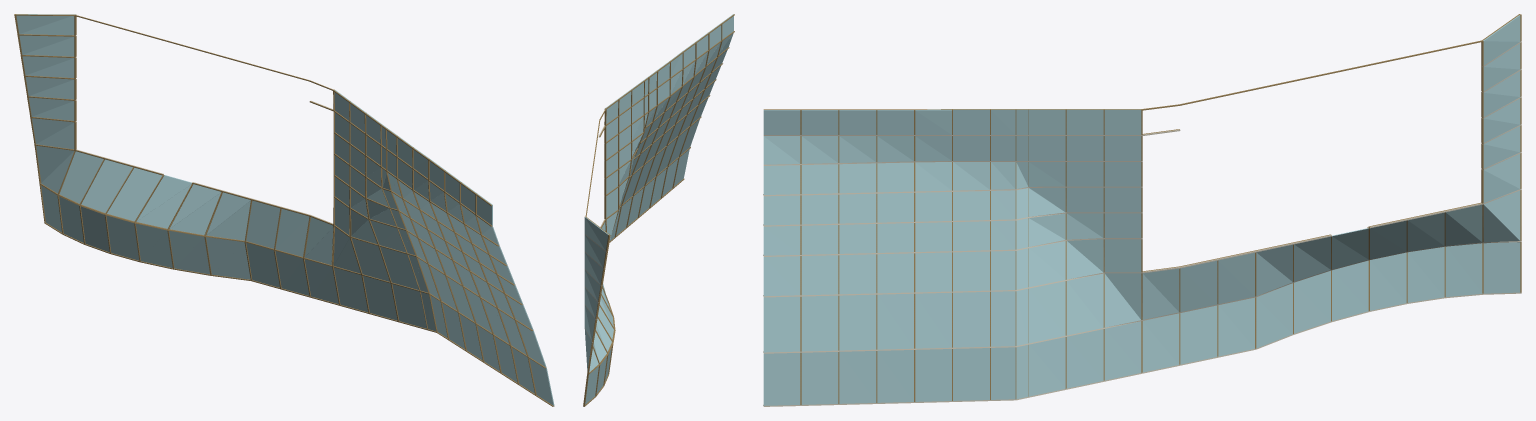
Rendered from G7_Completion_Body_1_00.glb.
The picture shows the model from 3 angles, left to right: view 1: azimuth 30°, elevation 25°; view 2: azimuth 150°, elevation 25°; view 3: azimuth 270°, elevation 25°; orthographic projection. The views are drawn at different scales.
Parts seen in each view (by area): view 1: Body_1_00_G7C3_glass_solid_skin, Body_1_00_G7C3_metal_solid_frame; view 2: Body_1_00_G7C3_glass_solid_skin, Body_1_00_G7C3_metal_solid_frame, Body_1_00_G7C3_metal_solid_skin, Body_1_00_G7C3_shell_solid_skin; view 3: Body_1_00_G7C3_glass_solid_skin, Body_1_00_G7C3_metal_solid_skin, Body_1_00_G7C3_shell_solid_skin, Body_1_00_G7C3_metal_solid_frame.
Part boxes in pixels (x1,y1,x2,y2): Body_1_00_G7C3_glass_solid_skin: [16, 14, 554, 405]; Body_1_00_G7C3_metal_solid_frame: [14, 14, 553, 406]; Body_1_00_G7C3_glass_solid_skin: [584, 14, 733, 404]; Body_1_00_G7C3_metal_solid_frame: [583, 14, 734, 406]; Body_1_00_G7C3_metal_solid_skin: [583, 32, 708, 405]; Body_1_00_G7C3_shell_solid_skin: [583, 125, 606, 406]; Body_1_00_G7C3_glass_solid_skin: [763, 15, 1520, 405]; Body_1_00_G7C3_metal_solid_skin: [800, 14, 1521, 404]; Body_1_00_G7C3_shell_solid_skin: [763, 41, 1521, 406]; Body_1_00_G7C3_metal_solid_frame: [763, 14, 1519, 405].
Bounding box in the file's own units: 49.67 × 45.5 × 120.
3 materials, 2 textured.
